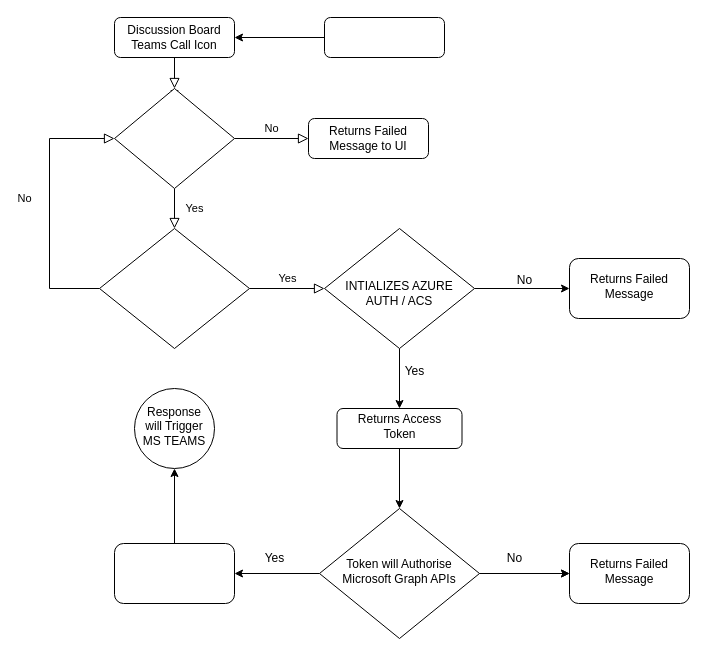
Image size: 707x656. Some labels were removed from this diagram. Here are the shapes that lost their labels. From the top down, the centre of each, then its label:
At (x=384, y=37): "Login".
At (x=174, y=138): "REST API CALL API GATEWAY".
At (x=174, y=288): "CALLS MS TEAMS MICROSERVICE".
At (x=174, y=573): "Returns Success Message with response".
